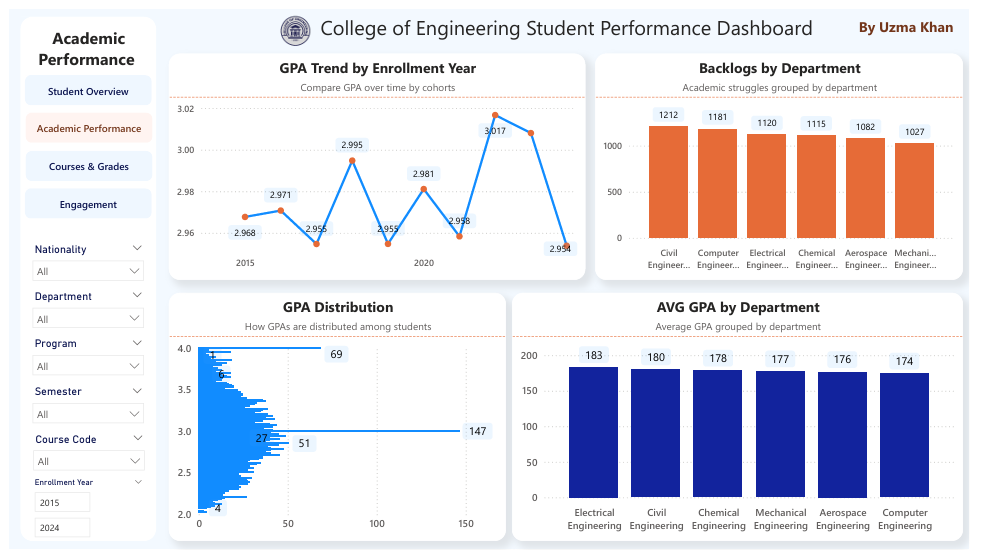

This screenshot's page, from the dashboard's own definition file:
{"tool":"powerbi","page":{"name":"Academic Performance","canvas":[1280,720],"ordinal":2},"visuals":[{"type":"shape","box":[13.8,8.8,181.2,698.8],"z":0},{"type":"clusteredBarChart","title":"GPA Distribution","fields":{"Category":["College_of_Engineering_Student_Dataset v2.GPA_Current"],"Y":["CountNonNull(College_of_Engineering_Student_Dataset v2.Student_ID)"]},"box":[212.2,376.7,450,331.1],"z":1000},{"type":"lineChart","title":"GPA Trend by Enrollment Year","fields":{"Category":["College_of_Engineering_Student_Dataset v2.Enrollment_Year"],"Y":["Avg(College_of_Engineering_Student_Dataset v2.GPA_Current)"]},"box":[212.2,57.8,555.6,302.2],"z":2000},{"type":"textbox","box":[212.5,0,1060,57.5],"z":3000},{"type":"image","box":[352.2,0,57.8,55.6],"z":4000},{"type":"textbox","box":[26.7,17.8,156.7,113.3],"z":5000},{"type":"clusteredColumnChart","title":"Backlogs by Department","fields":{"Category":["College_of_Engineering_Student_Dataset v2.Department"],"Y":["Sum(College_of_Engineering_Student_Dataset v2.Number_of_Backlogs)"]},"box":[781.1,57.8,491.1,302.2],"z":6000},{"type":"clusteredColumnChart","title":"AVG GPA by Department","fields":{"Category":["College_of_Engineering_Student_Dataset v2.Department"],"Y":["Count(College_of_Engineering_Student_Dataset v2.GPA_Current)"]},"box":[670,376.7,602.2,331.1],"z":7000},{"type":"actionButton","box":[20,86.7,168.9,40],"z":8000},{"type":"actionButton","box":[21.1,136.7,168.9,40],"z":9000},{"type":"actionButton","box":[21.1,187.8,168.9,40],"z":10000},{"type":"actionButton","box":[20,237.8,168.9,40],"z":11000},{"type":"slicer","fields":{"Values":["College_of_Engineering_Student_Dataset v2.Nationality"]},"box":[20,305.6,168.9,63.3],"z":12000},{"type":"slicer","fields":{"Values":["College_of_Engineering_Student_Dataset v2.Department"]},"box":[20,368.9,168.9,63.3],"z":13000},{"type":"slicer","fields":{"Values":["College_of_Engineering_Student_Dataset v2.Program"]},"box":[20,432.2,168.9,63.3],"z":14000},{"type":"slicer","fields":{"Values":["College_of_Engineering_Student_Dataset v2.Semester"]},"box":[20,495.6,168.9,63.3],"z":15000},{"type":"slicer","fields":{"Values":["College_of_Engineering_Student_Dataset v2.Course_Code"]},"box":[21.1,558.9,168.9,64.4],"z":16000},{"type":"slicer","fields":{"Values":["College_of_Engineering_Student_Dataset v2.Enrollment_Year"]},"box":[20,618.9,168.9,84.4],"z":17000},{"type":"textbox","box":[1117.8,4.4,156.7,47.8],"z":17001}]}

Visuals, with their boxes in screenshot pixels (x1, y1, x2, y2), scaled from the page's 1280x720 canvas onto the 987x553 screenshot:
shape: Rect(11, 7, 150, 543)
"GPA Distribution" clusteredBarChart: Rect(164, 289, 511, 544)
"GPA Trend by Enrollment Year" lineChart: Rect(164, 44, 592, 276)
textbox: Rect(164, 0, 981, 44)
image: Rect(272, 0, 316, 43)
textbox: Rect(21, 14, 141, 101)
"Backlogs by Department" clusteredColumnChart: Rect(602, 44, 981, 276)
"AVG GPA by Department" clusteredColumnChart: Rect(517, 289, 981, 544)
actionButton: Rect(15, 67, 146, 97)
actionButton: Rect(16, 105, 147, 136)
actionButton: Rect(16, 144, 147, 175)
actionButton: Rect(15, 183, 146, 213)
slicer - College_of_Engineering_Student_Dataset v2.Nationality: Rect(15, 235, 146, 283)
slicer - College_of_Engineering_Student_Dataset v2.Department: Rect(15, 283, 146, 332)
slicer - College_of_Engineering_Student_Dataset v2.Program: Rect(15, 332, 146, 381)
slicer - College_of_Engineering_Student_Dataset v2.Semester: Rect(15, 381, 146, 429)
slicer - College_of_Engineering_Student_Dataset v2.Course_Code: Rect(16, 429, 147, 479)
slicer - College_of_Engineering_Student_Dataset v2.Enrollment_Year: Rect(15, 475, 146, 540)
textbox: Rect(862, 3, 983, 40)
